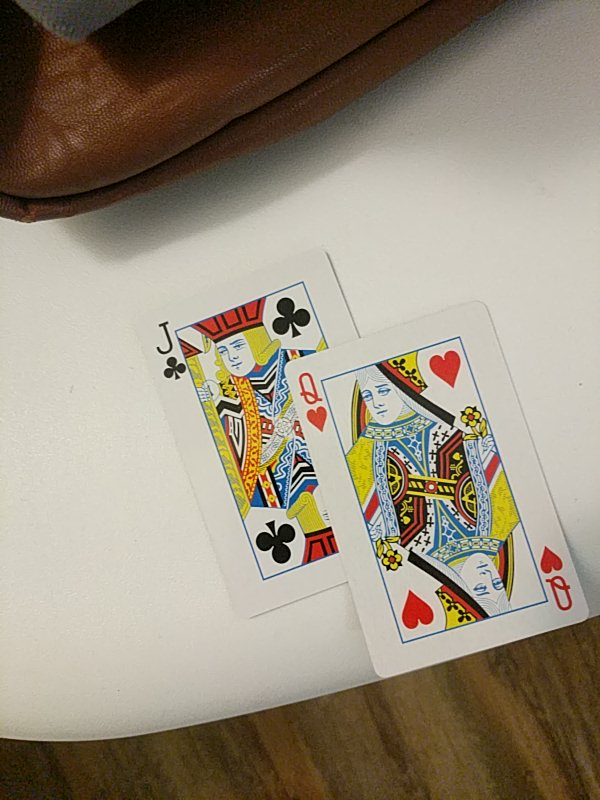Clubs: (134, 254, 360, 619)
Hearts: (284, 301, 590, 677)
